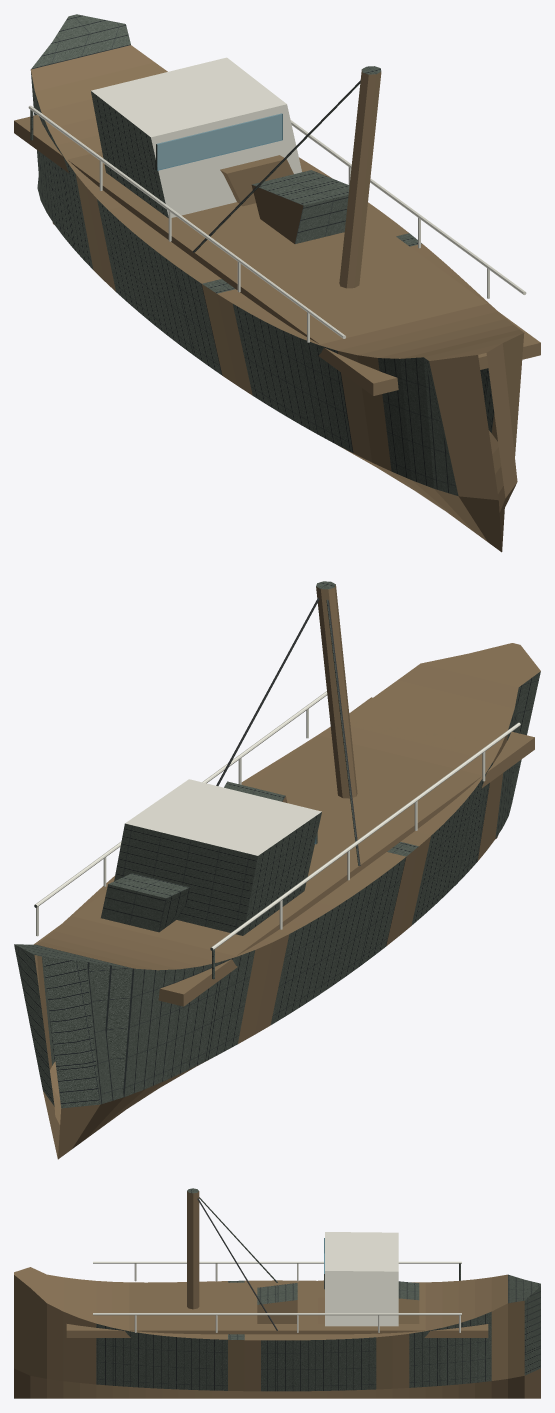
The model's file is damaged2.gltf.
3 views of the same model, one above another, from view 1: azimuth 30°, elevation 25°; view 2: azimuth 150°, elevation 25°; view 3: azimuth 270°, elevation 25° (orthographic). The views are drawn at different scales.
Parts seen in each view (by area): view 1: britainfishing_damaged2; view 2: britainfishing_damaged2; view 3: britainfishing_damaged2.
Boxes of the visible parts, box(x1,y1,x2,y2) form: britainfishing_damaged2: box(14, 14, 540, 552); britainfishing_damaged2: box(14, 581, 540, 1159); britainfishing_damaged2: box(14, 1188, 540, 1398).
Size of the model in its own units: 11.2 by 18.66 by 41.6.
Materials: 5 (1 with a texture image).
